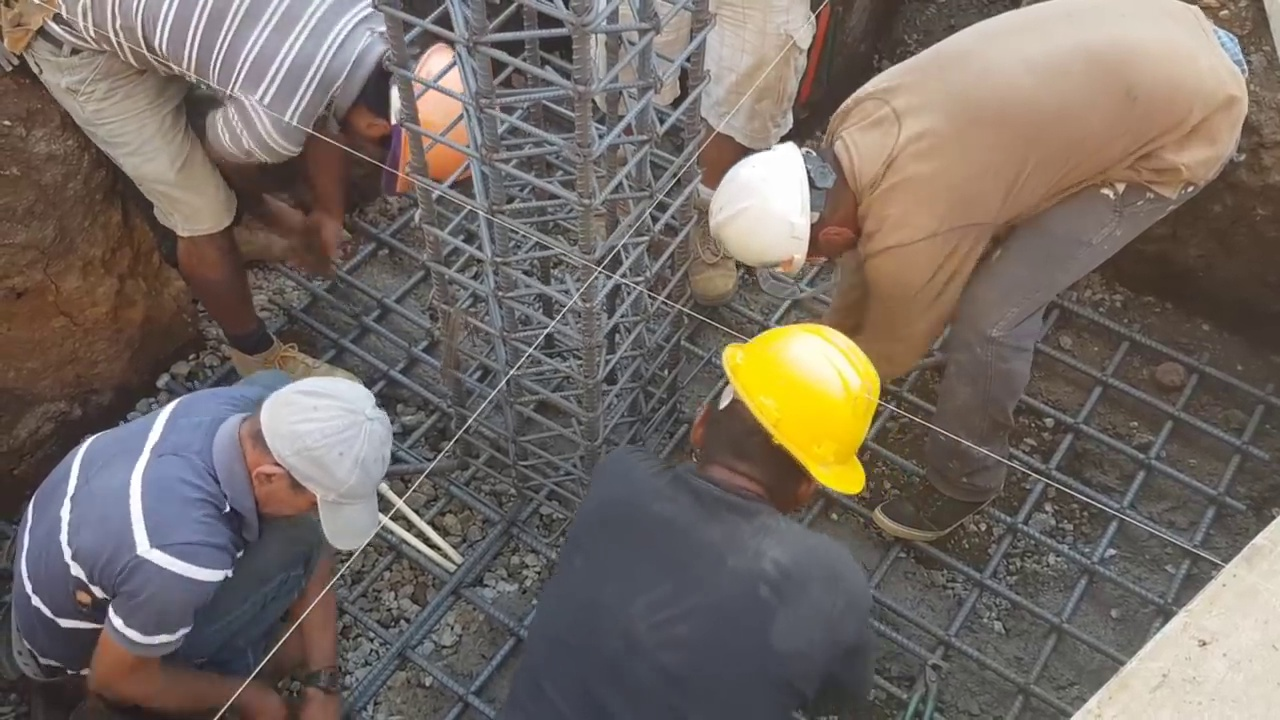helmet: (721, 322, 880, 494), (709, 141, 824, 279), (387, 42, 502, 180)
helmet-off: (234, 372, 400, 552)
helmet-on: (669, 324, 878, 520), (338, 18, 509, 184), (714, 125, 867, 279)
person: (709, 0, 1271, 539), (3, 0, 516, 356), (501, 340, 875, 720), (0, 368, 400, 720), (580, 5, 822, 305)
